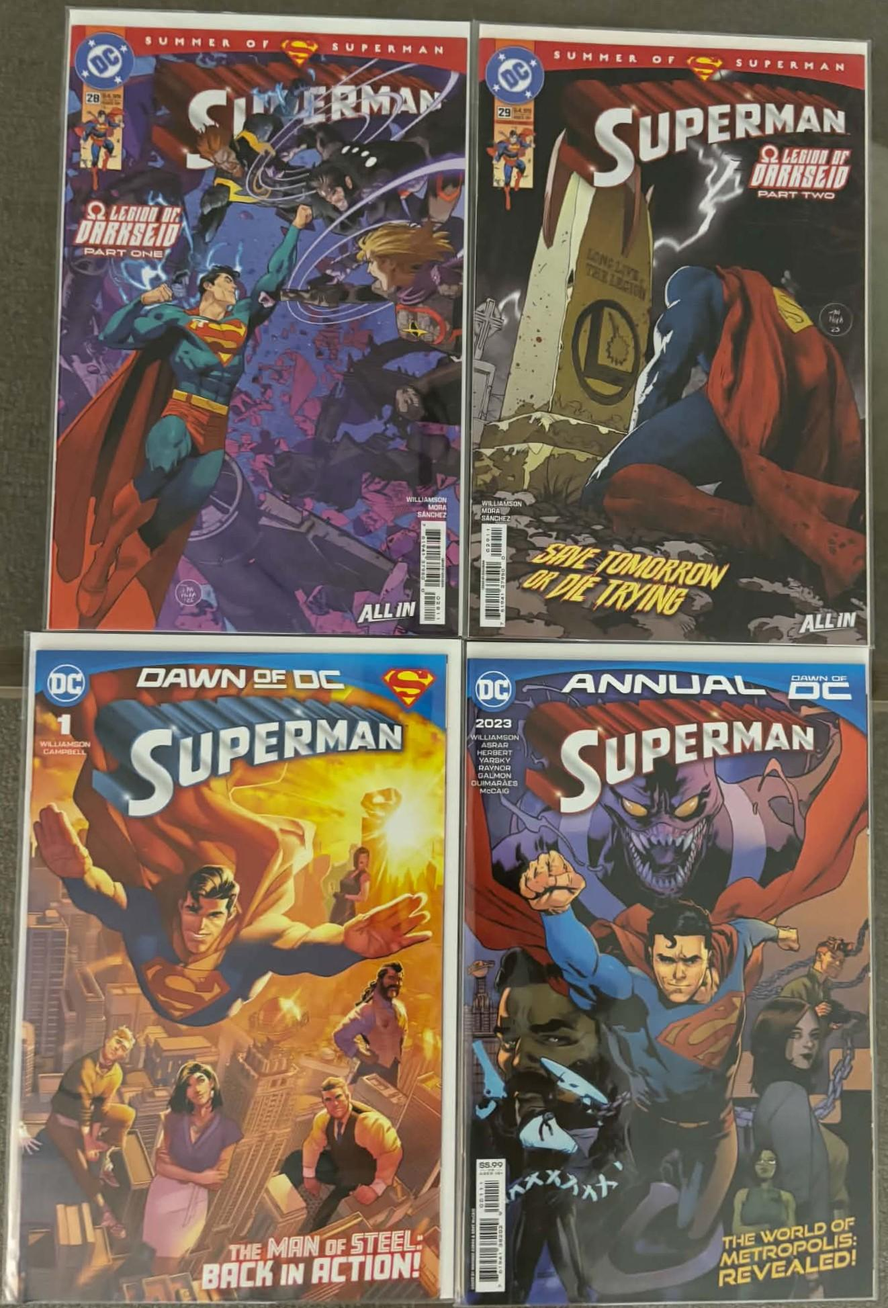comic: (4, 632, 467, 1308), (462, 643, 873, 1304), (48, 8, 472, 638), (469, 25, 871, 643)
